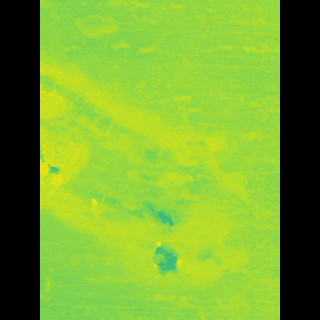Loch: (68, 61, 229, 319)
